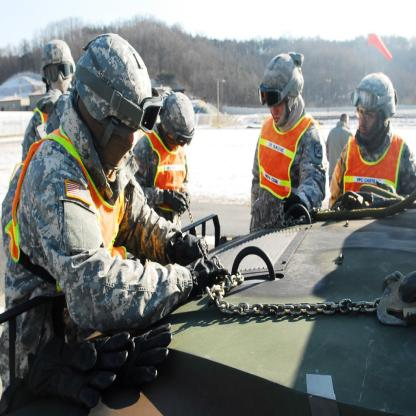Helmet: (76, 29, 157, 171), (353, 71, 400, 151), (257, 53, 305, 123), (161, 92, 193, 157), (41, 41, 75, 91)
